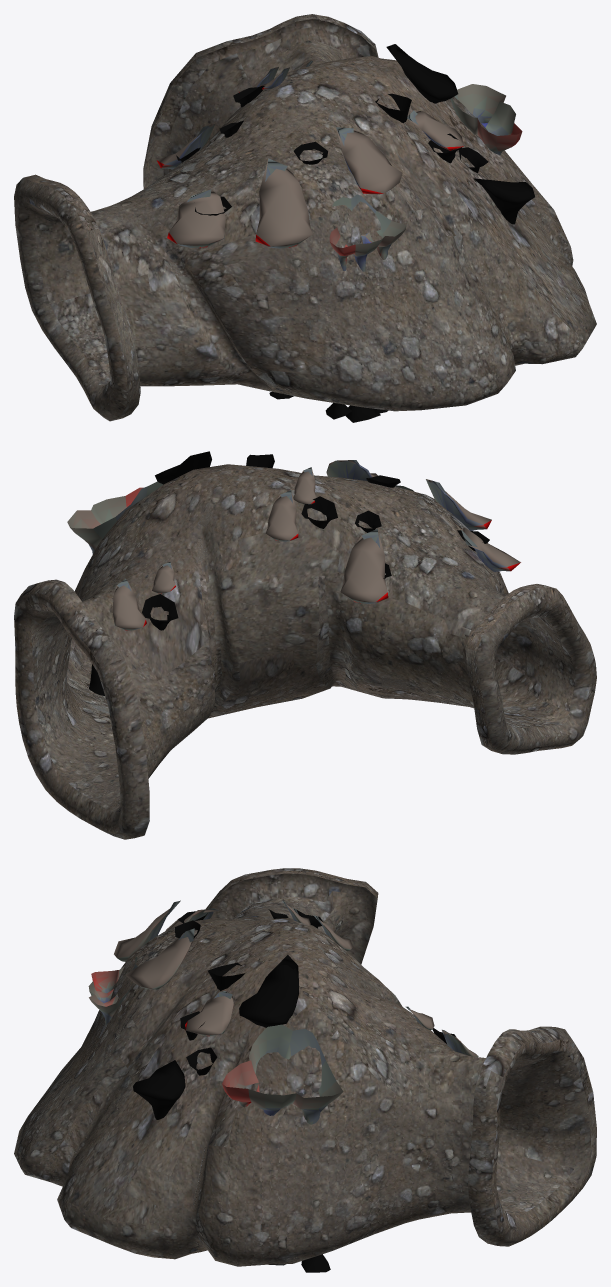
The model's file is cave_chamber_03.dae.
3 renders of one model, top to bottom at view 1: azimuth 30°, elevation 25°; view 2: azimuth 150°, elevation 25°; view 3: azimuth 270°, elevation 25°, orthographic. The views are drawn at different scales.
Visible parts, largest first — view 1: chamber_03, stalactite__4_; view 2: chamber_03, stalactite__4_; view 3: chamber_03, stalactite__4_.
Boxes of the visible parts, x1=… form: chamber_03: x1=14, y1=14, x2=596, y2=421; stalactite__4_: x1=156, y1=44, x2=534, y2=422; chamber_03: x1=14, y1=464, x2=596, y2=839; stalactite__4_: x1=67, y1=451, x2=520, y2=695; chamber_03: x1=14, y1=868, x2=596, y2=1266; stalactite__4_: x1=88, y1=900, x2=478, y2=1272.
Size of what is drawn, in the model's own units: 8.1 by 4.61 by 8.67.
